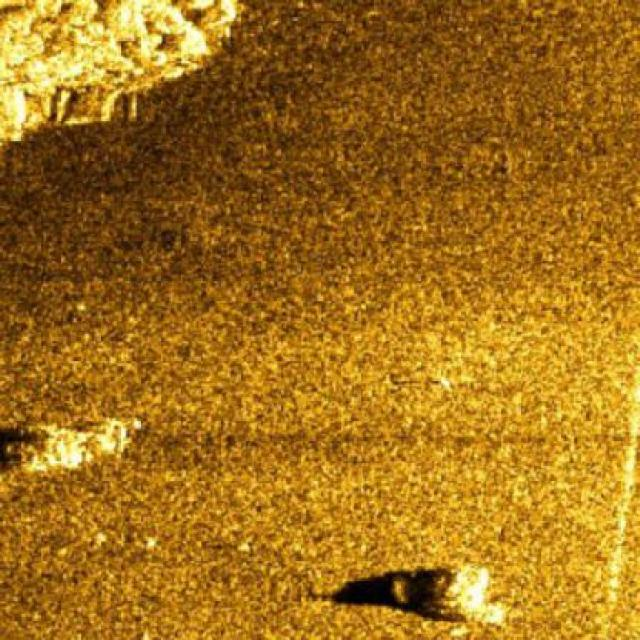bedrock group: (0, 0, 246, 143)
